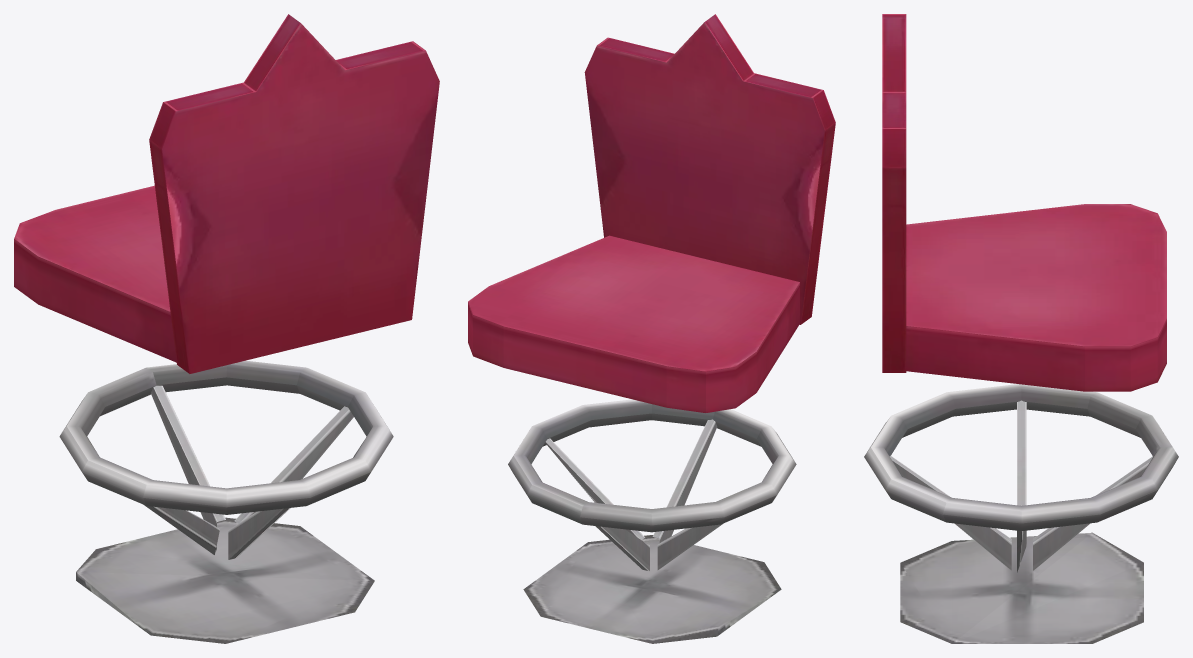
The model's file is cove-stool.glb.
3 views of the same model, side by side, from view 1: azimuth 30°, elevation 25°; view 2: azimuth 150°, elevation 25°; view 3: azimuth 270°, elevation 25° (orthographic). The views are drawn at different scales.
Visible parts, largest first — view 1: Stool; view 2: Stool; view 3: Stool.
Boxes of the visible parts, x1,y1,x2,y2 form: Stool: (14, 14, 439, 643); Stool: (468, 14, 835, 643); Stool: (864, 14, 1178, 643).
Size of the model in its own units: 19.02 by 35.86 by 17.78.
Materials: 1 (1 with a texture image).
